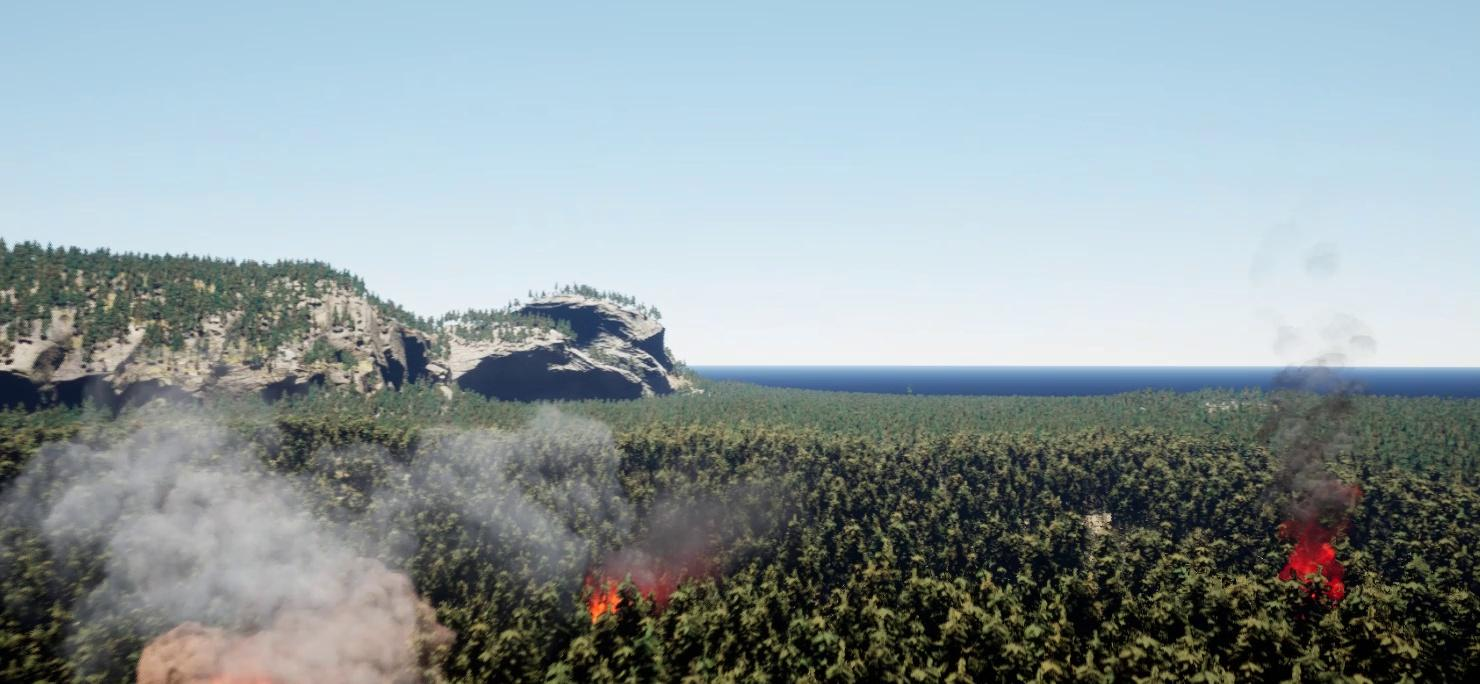fire: (1271, 534, 1353, 606), (592, 570, 666, 631)
smoke: (0, 373, 794, 683), (1240, 222, 1371, 529)
